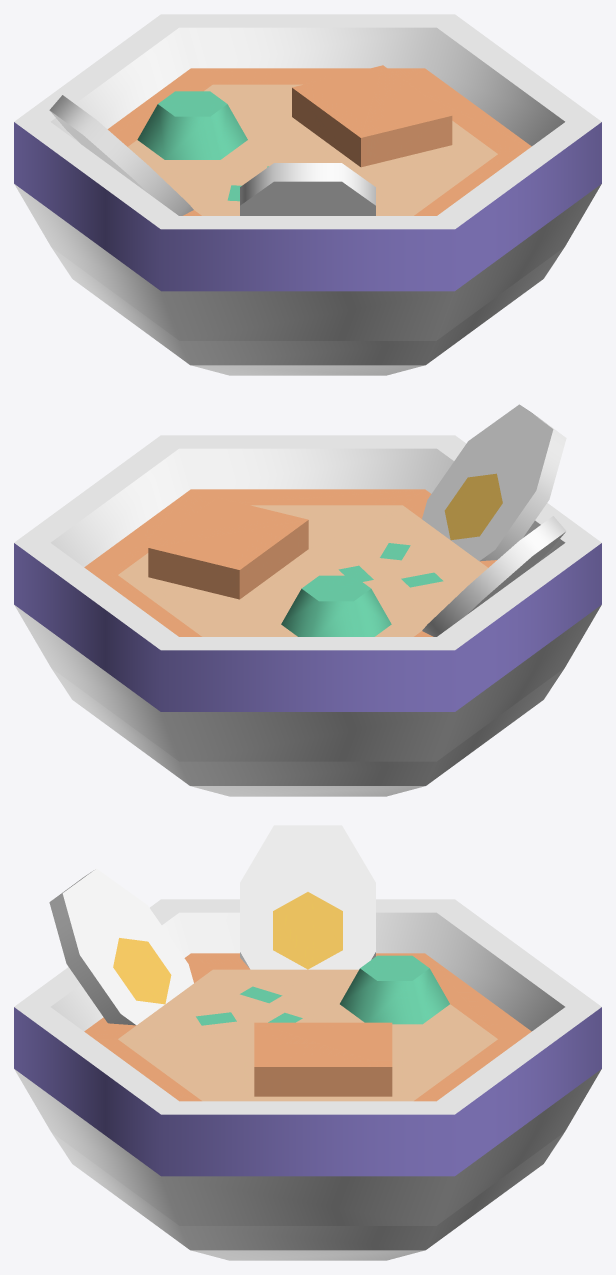
The model's file is bowl-broth.glb.
3 renders of one model, top to bottom at view 1: azimuth 30°, elevation 25°; view 2: azimuth 150°, elevation 25°; view 3: azimuth 270°, elevation 25°, orthographic.
Parts seen in each view (by area): view 1: bowlBroth; view 2: bowlBroth; view 3: bowlBroth.
Part boxes in pixels (bbox=[...]): bowlBroth: bbox=[14, 14, 601, 375]; bowlBroth: bbox=[14, 404, 601, 796]; bowlBroth: bbox=[14, 825, 601, 1260].
Size of the model in its own units: 0.5262 by 0.2903 by 0.5798.
Materials: 1 (1 with a texture image).
